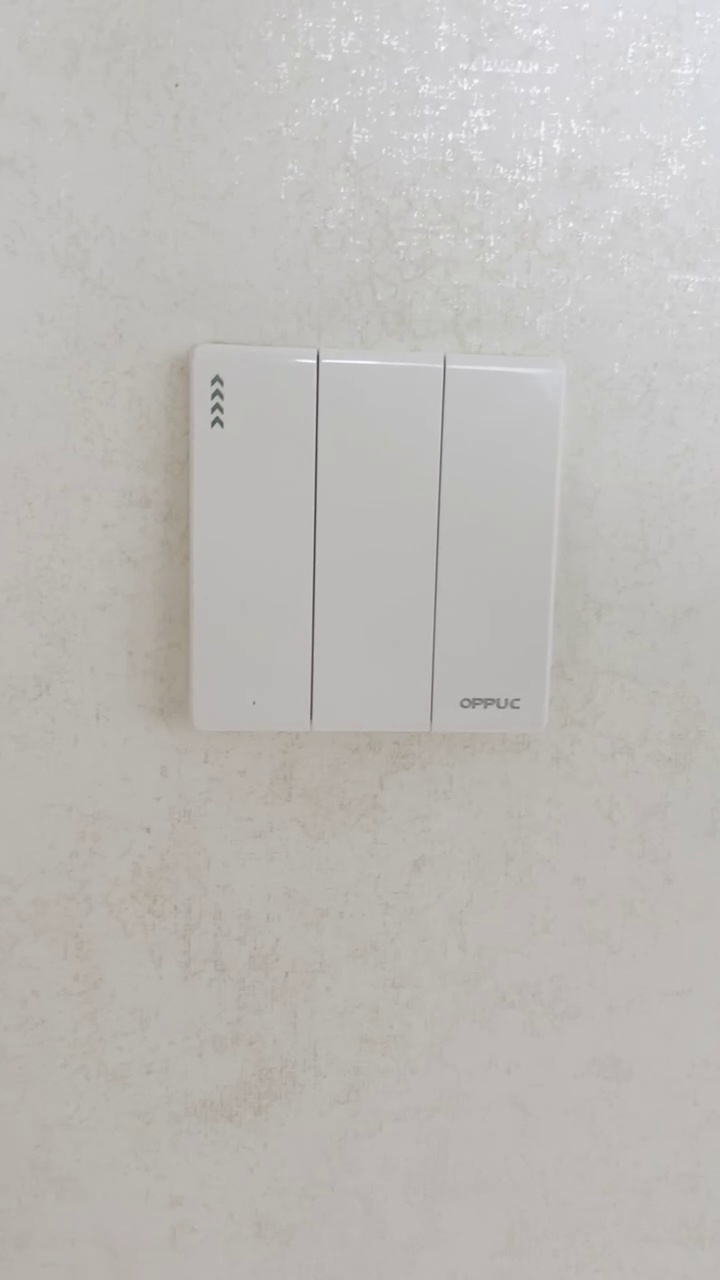button1: (437, 369, 559, 731), (196, 353, 312, 732), (320, 357, 434, 729)
